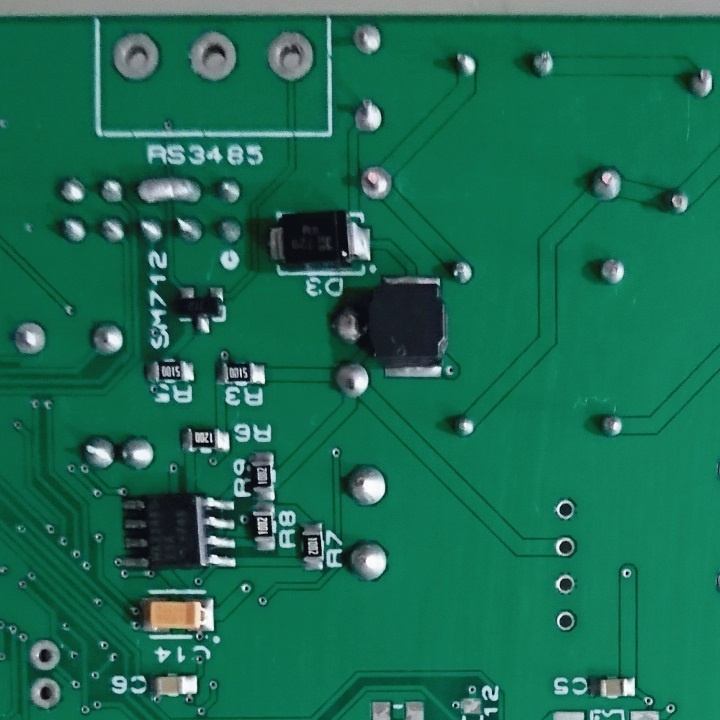F: (107, 29, 163, 85), (263, 27, 316, 86), (185, 29, 241, 81), (9, 318, 48, 358), (357, 163, 394, 201), (28, 675, 63, 714), (352, 97, 386, 137), (27, 637, 63, 671), (352, 18, 382, 58), (551, 496, 579, 522), (551, 609, 579, 634), (553, 532, 577, 560), (553, 574, 580, 597)
P: (134, 175, 203, 206)
